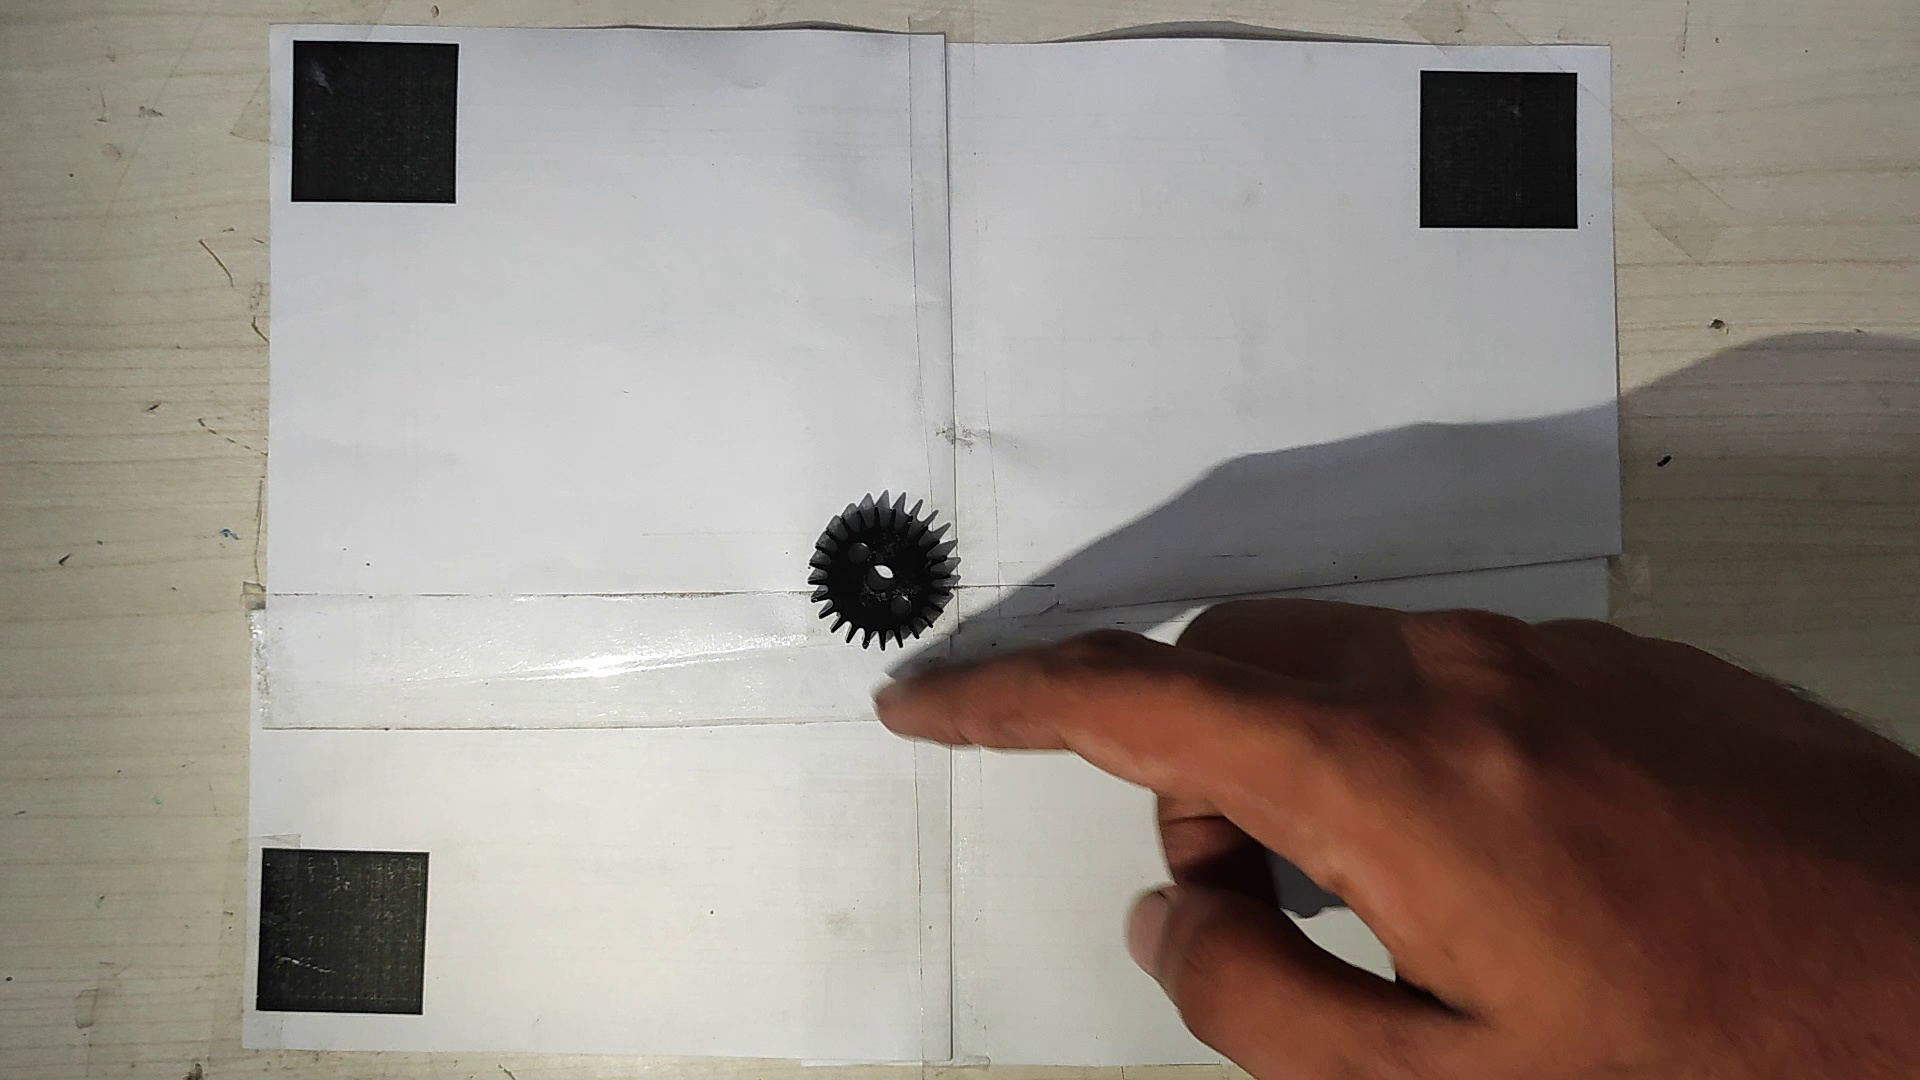Gear: (798, 487, 969, 655)
